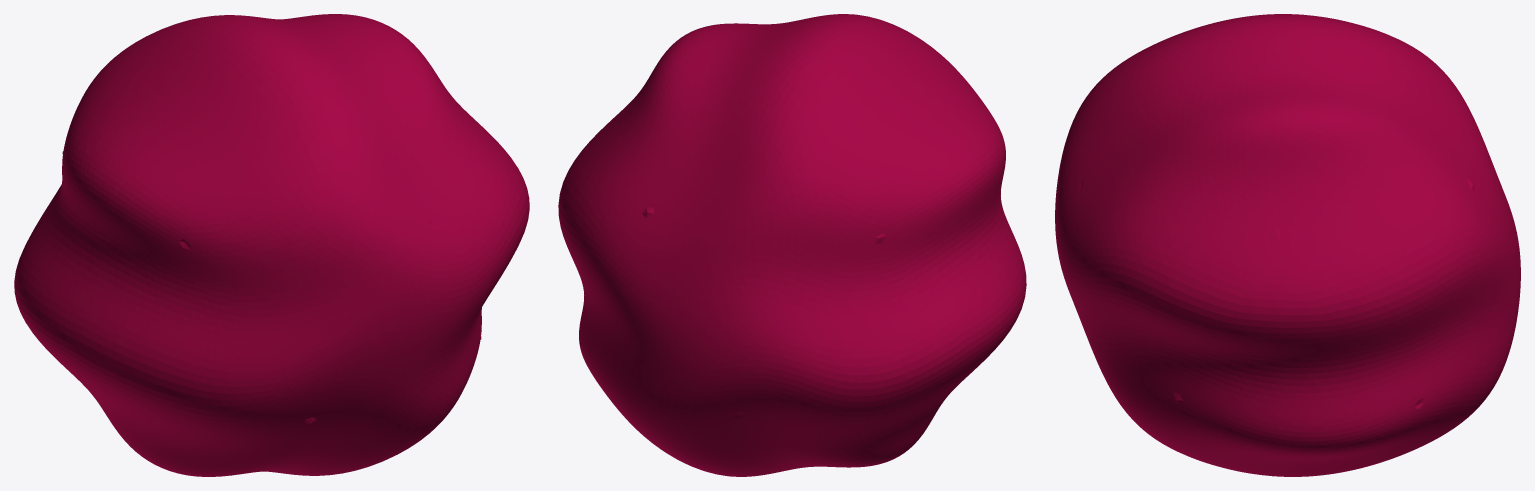
The model's file is Blobbie-02.dae.
3 views of the same model, side by side, from view 1: azimuth 30°, elevation 25°; view 2: azimuth 150°, elevation 25°; view 3: azimuth 270°, elevation 25° (orthographic). The views are drawn at different scales.
Parts seen in each view (by area): view 1: Blobbie; view 2: Blobbie; view 3: Blobbie.
Boxes of the visible parts, x1,y1,x2,y2 form: Blobbie: (14, 14, 529, 476); Blobbie: (558, 14, 1026, 476); Blobbie: (1055, 14, 1520, 476).
Bounding box in the file's own units: 2.12 × 2.03 × 2.06.
